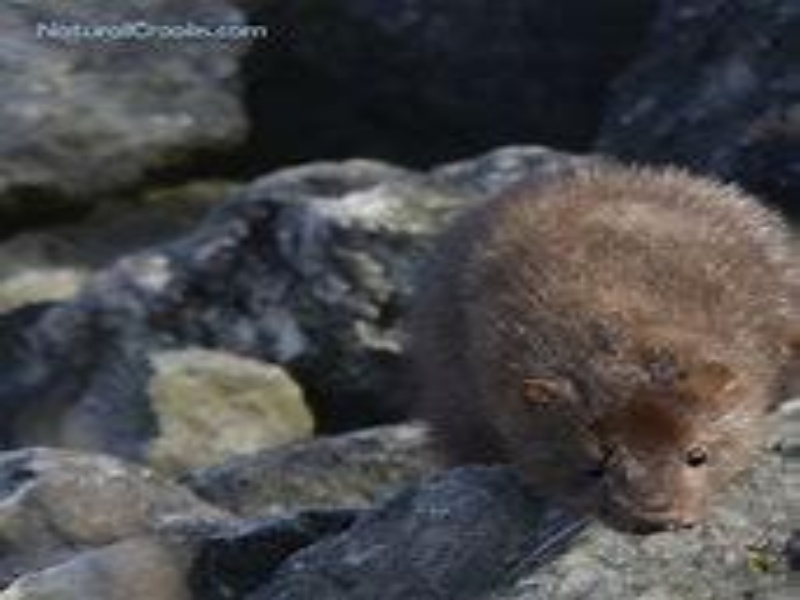minkish: (402, 159, 794, 536)
